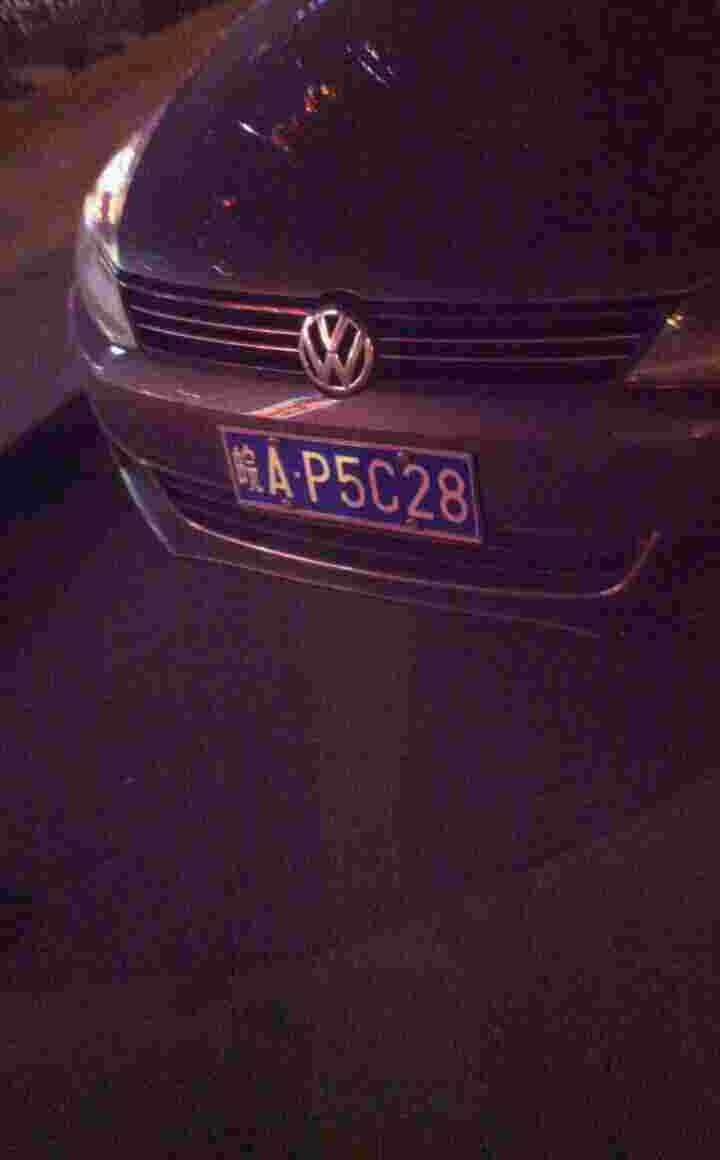car: (217, 425, 476, 543)
